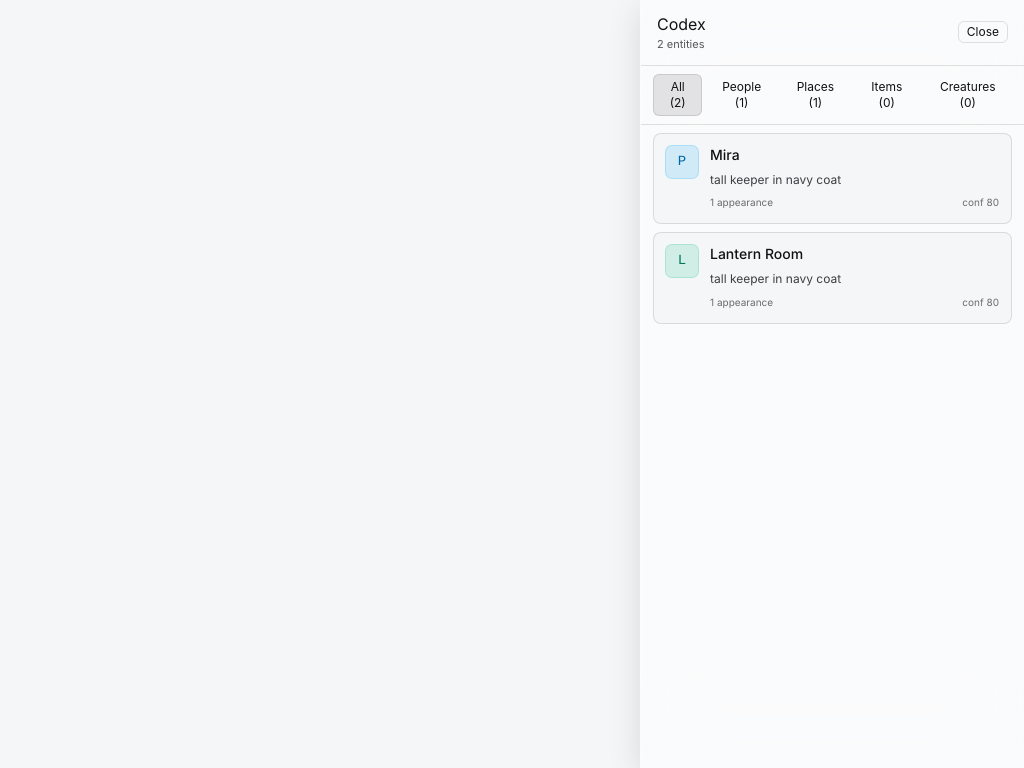
Test: CodexPanel › filters by kind when a tab is selected
Click the button "Places (1)" at (815, 94), box [781,74,850,116]
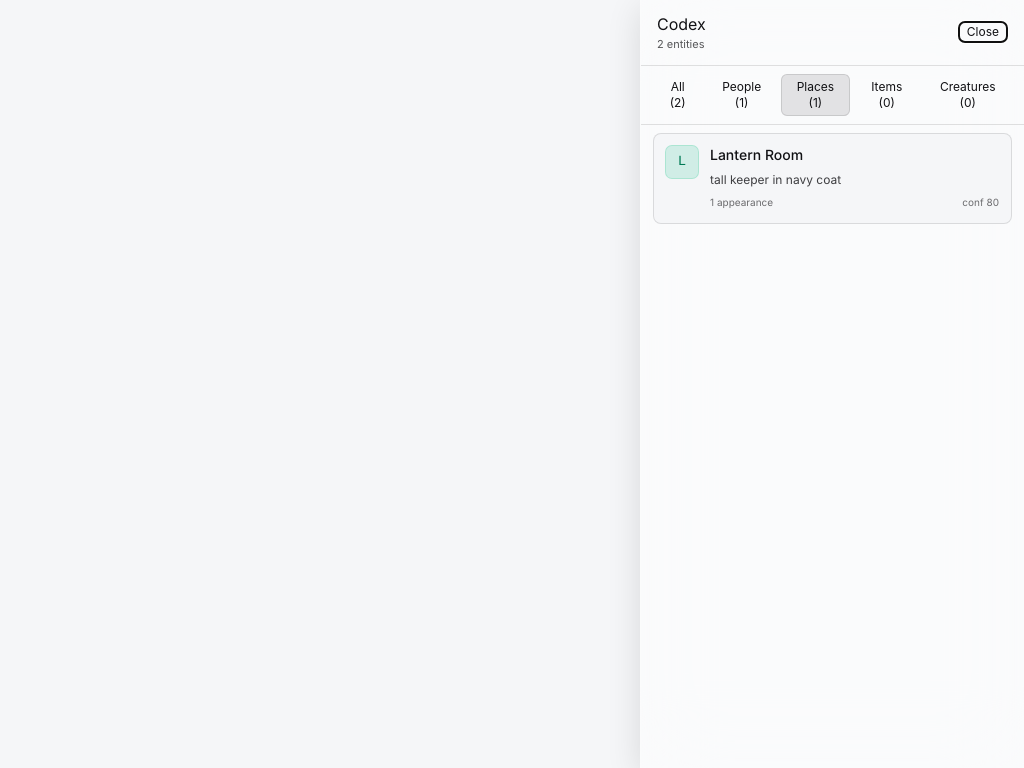
Check: the heading "Lantern Room" is shown, box [710,146,803,166]
Check: the heading "Mira" is gone
